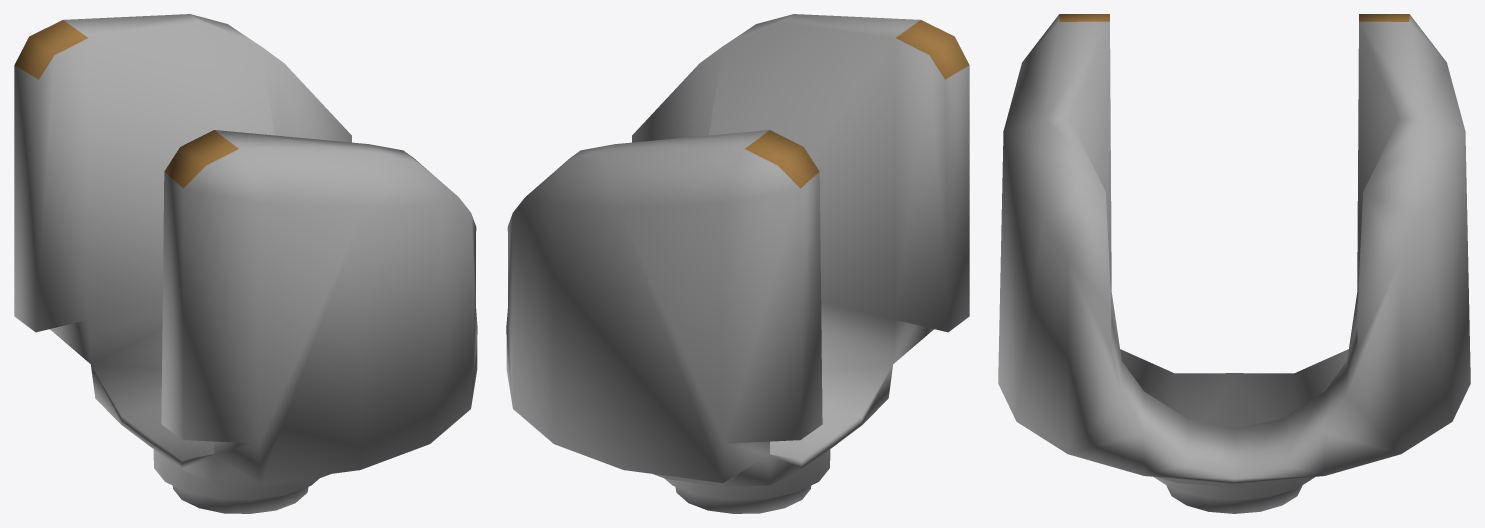
The picture shows the model from 3 angles, left to right: view 1: azimuth 30°, elevation 25°; view 2: azimuth 150°, elevation 25°; view 3: azimuth 270°, elevation 25°; orthographic projection.
Parts seen in each view (by area): view 1: f40; view 2: f40; view 3: f40.
Boxes of the visible parts, box(x1,y1,x2,y2) form: f40: box(14, 14, 477, 513); f40: box(506, 14, 969, 513); f40: box(998, 14, 1470, 513).
Bounding box in the file's own units: 0.0194 × 0.023 × 0.0225.
